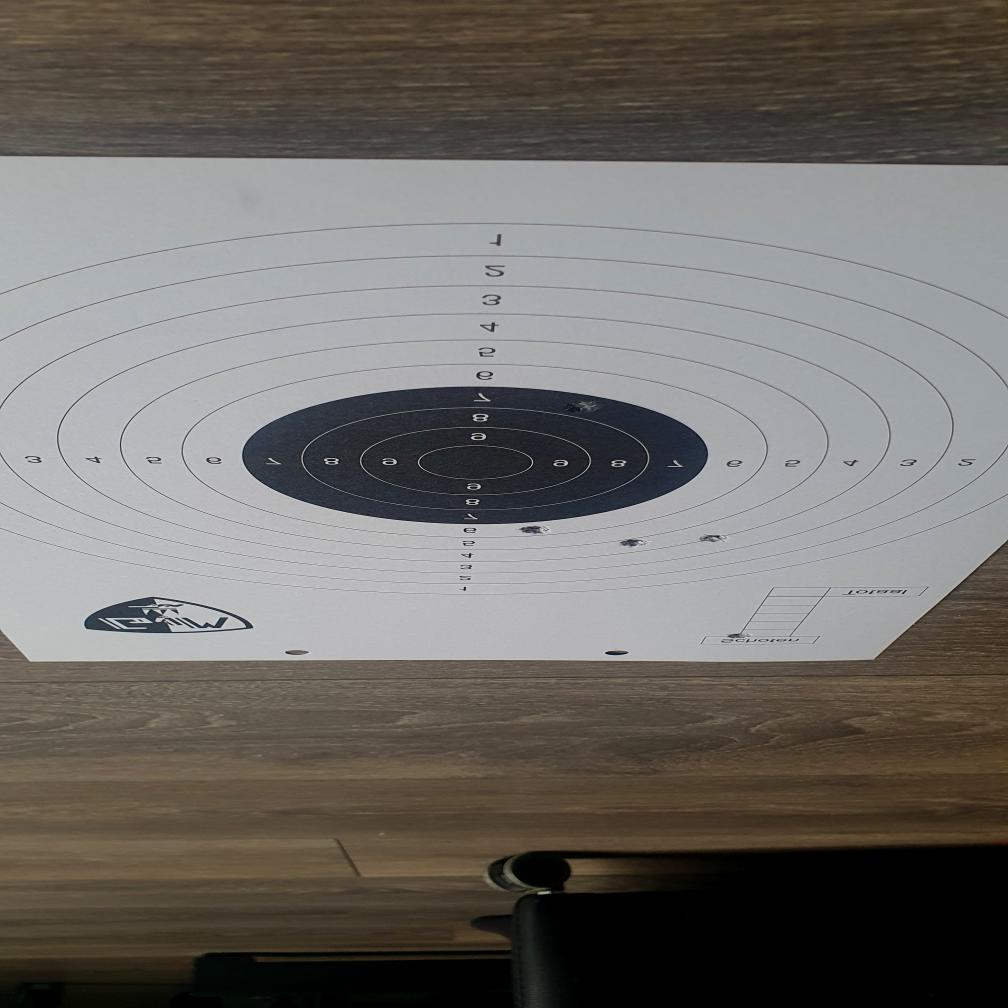0: (722, 630, 752, 640)
4: (693, 532, 730, 545), (616, 537, 651, 549)
6: (514, 524, 554, 536)
7: (560, 399, 602, 414)
Target: (0, 221, 1008, 597)
black_contour: (243, 386, 710, 526)
